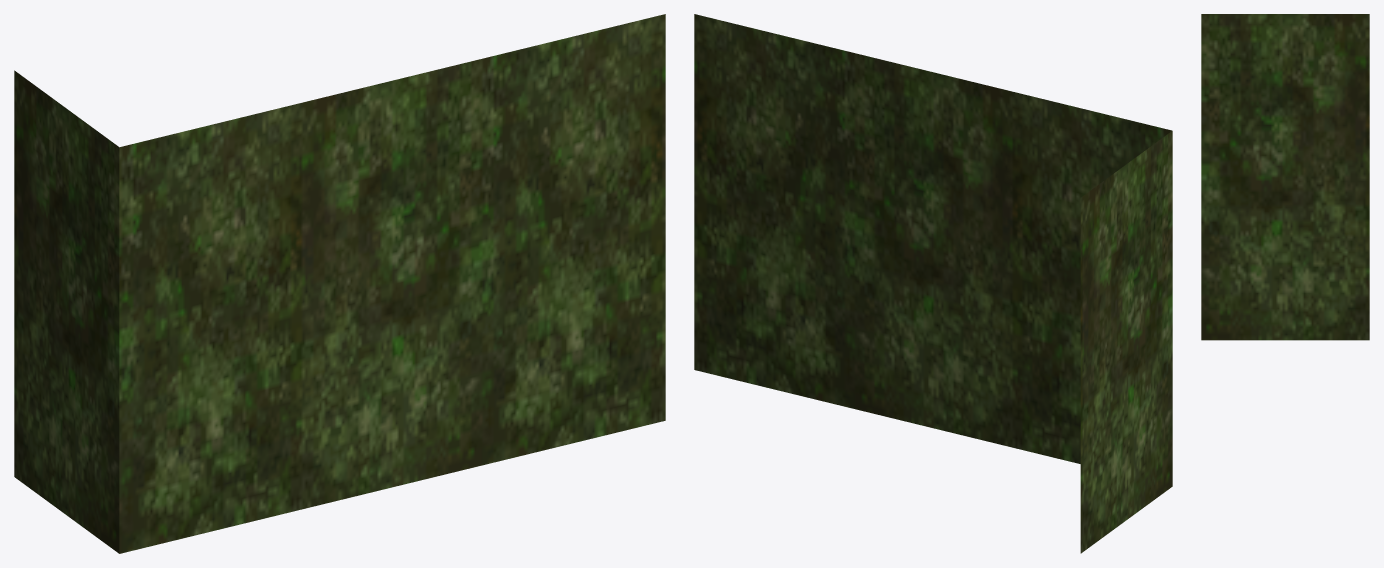
The model's file is OVERHILL_A_01_LINE230.fbx.
3 renders of one model, left to right at view 1: azimuth 30°, elevation 25°; view 2: azimuth 150°, elevation 25°; view 3: azimuth 270°, elevation 25°, orthographic. The views are drawn at different scales.
Parts seen in each view (by area): view 1: OVERHILL_A_01_LINE230; view 2: OVERHILL_A_01_LINE230; view 3: OVERHILL_A_01_LINE230.
Boxes of the visible parts, x1,y1,x2,y2 form: OVERHILL_A_01_LINE230: (14,14,665,553); OVERHILL_A_01_LINE230: (694,14,1172,553); OVERHILL_A_01_LINE230: (1201,14,1369,340).
Bounding box in the file's own units: 30000 × 21350 × 10000.
Materials: 1 (1 with a texture image).
